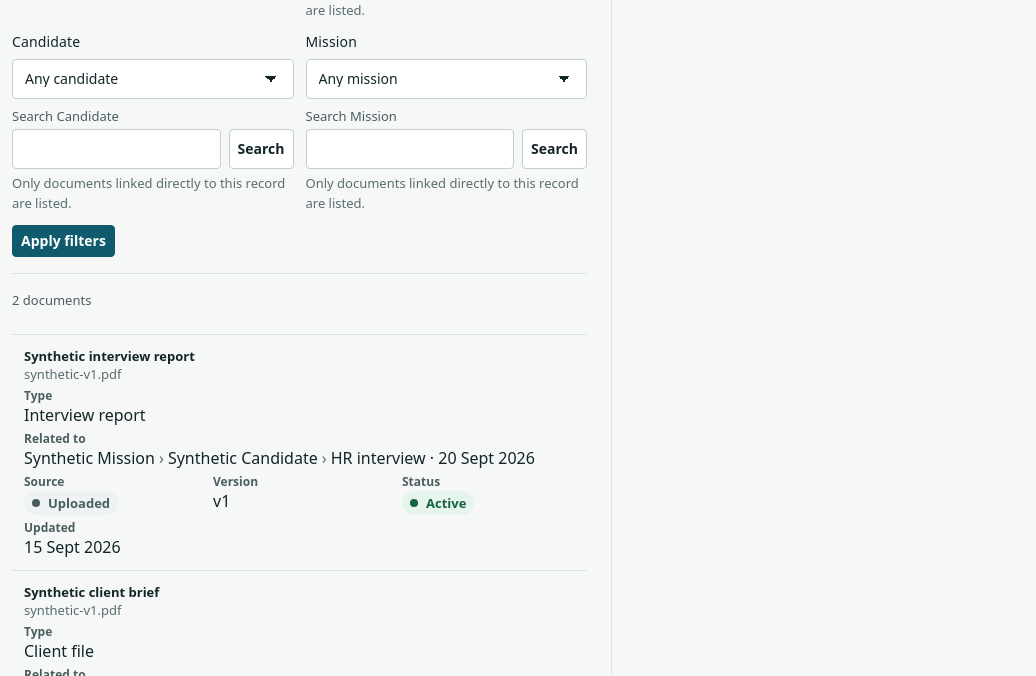
Test: DocumentsPanel presentation › never renders a linked record or document UUID as text
(page scrolled)
Click the button "Synthetic interview report" at (109, 356), box [24,347,195,365]
(page scrolled)
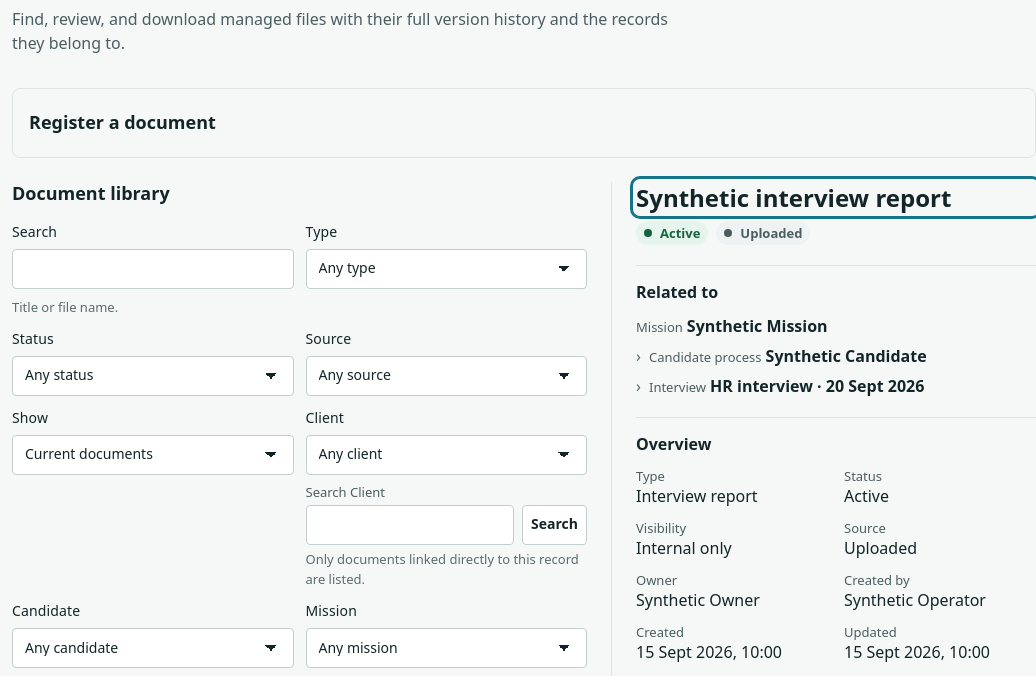
Now the heading "Synthetic interview report" is shown, box [636,181,951,214]
Now the navigation bar named "Related to" is shown, box [636,315,927,397]
